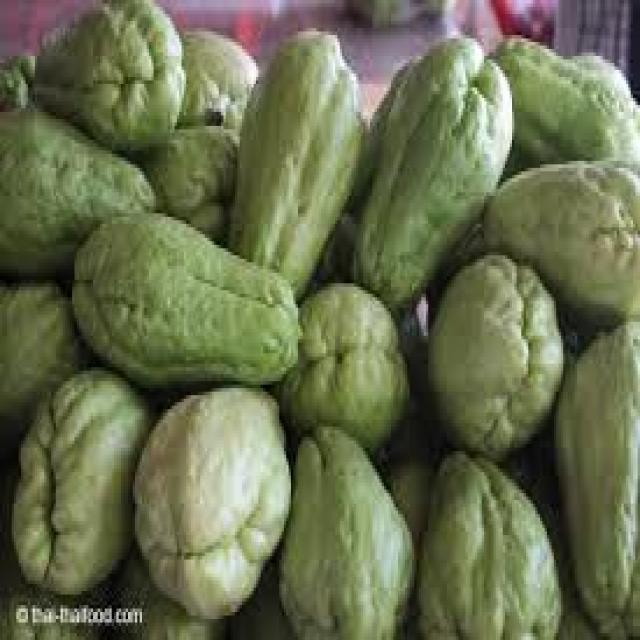organic waste: (351, 32, 512, 290), (72, 213, 298, 385), (130, 378, 291, 619), (226, 24, 360, 287), (9, 360, 156, 595), (279, 423, 417, 637), (421, 245, 561, 454), (474, 154, 638, 325), (552, 315, 638, 636), (0, 0, 182, 147), (0, 105, 156, 276), (419, 451, 556, 637), (484, 28, 638, 168), (272, 280, 405, 440), (0, 458, 109, 636), (324, 210, 421, 388), (524, 437, 598, 637), (0, 276, 79, 462), (111, 538, 232, 636), (140, 119, 242, 234), (177, 24, 258, 126), (228, 535, 305, 637), (375, 416, 440, 535), (0, 46, 35, 101)
